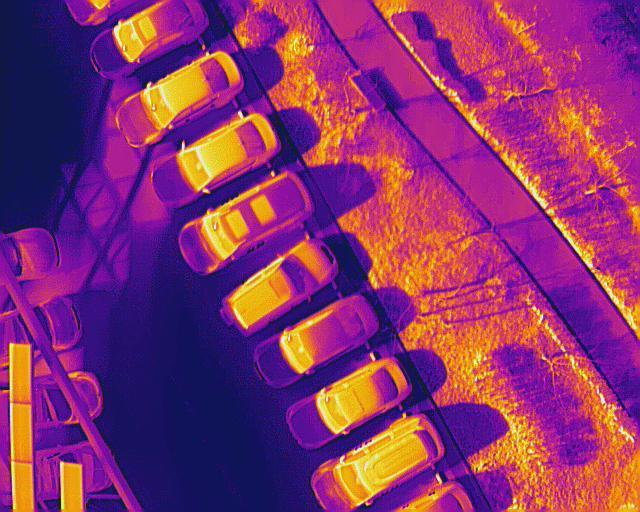No-Anomaly: (7, 342, 32, 403), (9, 403, 32, 462), (9, 462, 33, 512)
